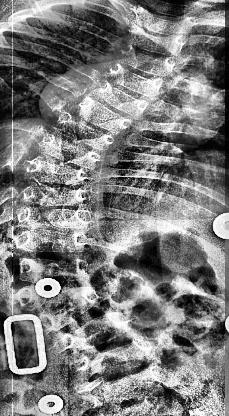Vertebrae: (67, 335, 159, 387), (58, 311, 136, 357), (33, 284, 103, 332), (37, 131, 105, 173), (51, 111, 115, 155), (24, 153, 100, 189), (16, 249, 94, 282), (13, 224, 91, 256), (92, 78, 148, 122), (133, 2, 197, 40), (106, 61, 164, 102), (76, 92, 130, 136), (21, 179, 94, 209), (118, 40, 178, 76), (15, 204, 93, 230), (128, 20, 184, 56), (11, 278, 63, 312)
